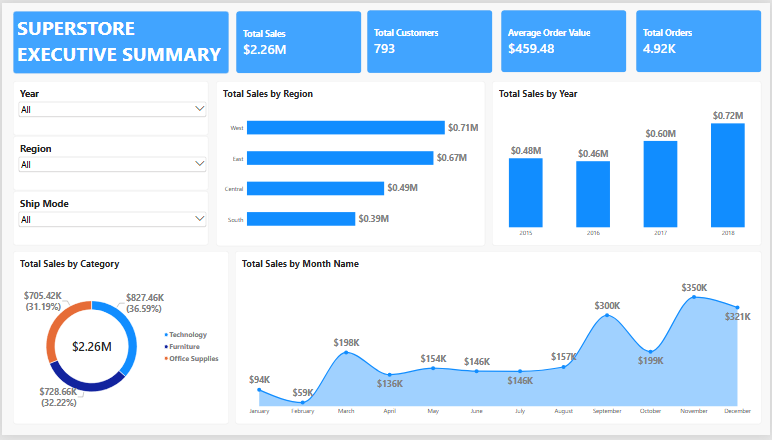

The dashboard page shown, as its layout file describes it:
{"tool":"powerbi","page":{"name":"Exe. Summary","canvas":[1920,1080],"ordinal":0},"visuals":[{"type":"cardVisual","fields":{"Data":["Superstore_sales_data_analysis_.Total Revenue"]},"box":[584,20,314,156],"z":0},{"type":"cardVisual","fields":{"Data":["Superstore_sales_data_analysis_.Total Customer"]},"box":[912,18,314,158],"z":1000},{"type":"cardVisual","fields":{"Data":["Superstore_sales_data_analysis_.Total Order"]},"box":[1586,18,314,156],"z":2000},{"type":"cardVisual","fields":{"Data":["Superstore_sales_data_analysis_.Average Order Value"]},"box":[1247.2,17.6,314,156],"z":3000},{"type":"areaChart","fields":{"Category":["Date.Month Name"],"Y":["Superstore_sales_data_analysis_.Total Sales"]},"box":[583.3,620,1316.7,433.3],"z":4000},{"type":"donutChart","fields":{"Category":["Superstore_sales_data_analysis_.Category"],"Y":["Superstore_sales_data_analysis_.Total Sales"]},"box":[27.5,620,540,432.5],"z":5000},{"type":"barChart","fields":{"Category":["Superstore_sales_data_analysis_.Region"],"Y":["Superstore_sales_data_analysis_.Total Sales"]},"box":[534.2,194,672.8,413.2],"z":6000},{"type":"columnChart","fields":{"Category":["Date.Year"],"Y":["Superstore_sales_data_analysis_.Total Sales"]},"box":[1226,194,674,412],"z":7000},{"type":"slicer","fields":{"Values":["Date.Year"]},"box":[27.7,194,488.8,136.1],"z":8000},{"type":"textbox","box":[27.6,19.1,540,157.3],"z":9000},{"type":"slicer","fields":{"Values":["Superstore_sales_data_analysis_.Region"]},"box":[27.7,332.6,488.8,136.1],"z":10000},{"type":"slicer","fields":{"Values":["Superstore_sales_data_analysis_.Ship Mode"]},"box":[27.7,471.2,488.8,136.1],"z":11000}]}

Visuals, with their boxes in screenshot pixels (x1, y1, x2, y2), scaled from the page's 1920x1080 canvas onto the 772x440 screenshot:
cardVisual - Superstore_sales_data_analysis_.Total Revenue: region(235, 8, 361, 72)
cardVisual - Superstore_sales_data_analysis_.Total Customer: region(367, 7, 493, 72)
cardVisual - Superstore_sales_data_analysis_.Total Order: region(638, 7, 764, 71)
cardVisual - Superstore_sales_data_analysis_.Average Order Value: region(501, 7, 628, 71)
areaChart - Date.Month Name x Superstore_sales_data_analysis_.Total Sales: region(235, 253, 764, 429)
donutChart - Superstore_sales_data_analysis_.Category x Superstore_sales_data_analysis_.Total Sales: region(11, 253, 228, 429)
barChart - Superstore_sales_data_analysis_.Region x Superstore_sales_data_analysis_.Total Sales: region(215, 79, 485, 247)
columnChart - Date.Year x Superstore_sales_data_analysis_.Total Sales: region(493, 79, 764, 247)
slicer - Date.Year: region(11, 79, 208, 134)
textbox: region(11, 8, 228, 72)
slicer - Superstore_sales_data_analysis_.Region: region(11, 136, 208, 191)
slicer - Superstore_sales_data_analysis_.Ship Mode: region(11, 192, 208, 247)
